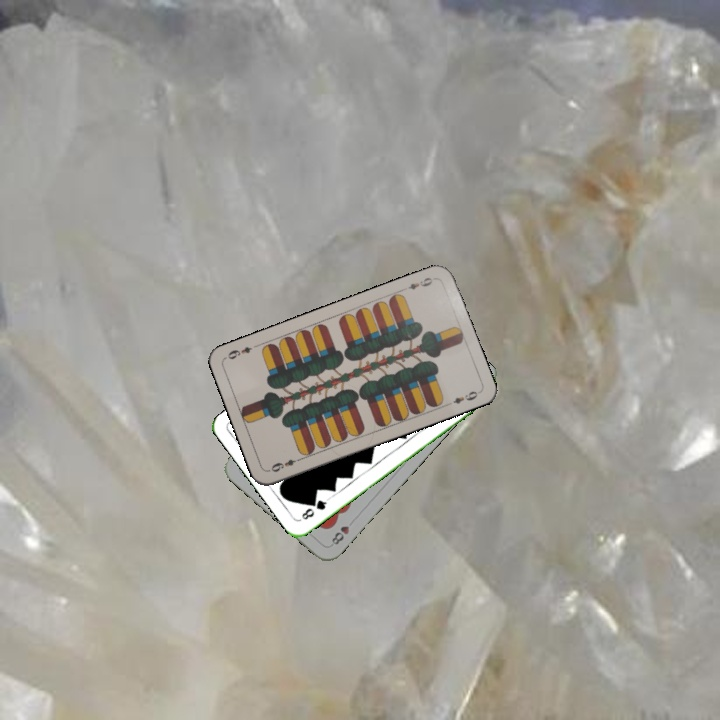E9: (398, 273, 438, 293), (267, 454, 305, 475)
G8: (297, 494, 332, 522)
H8: (328, 521, 352, 547)
